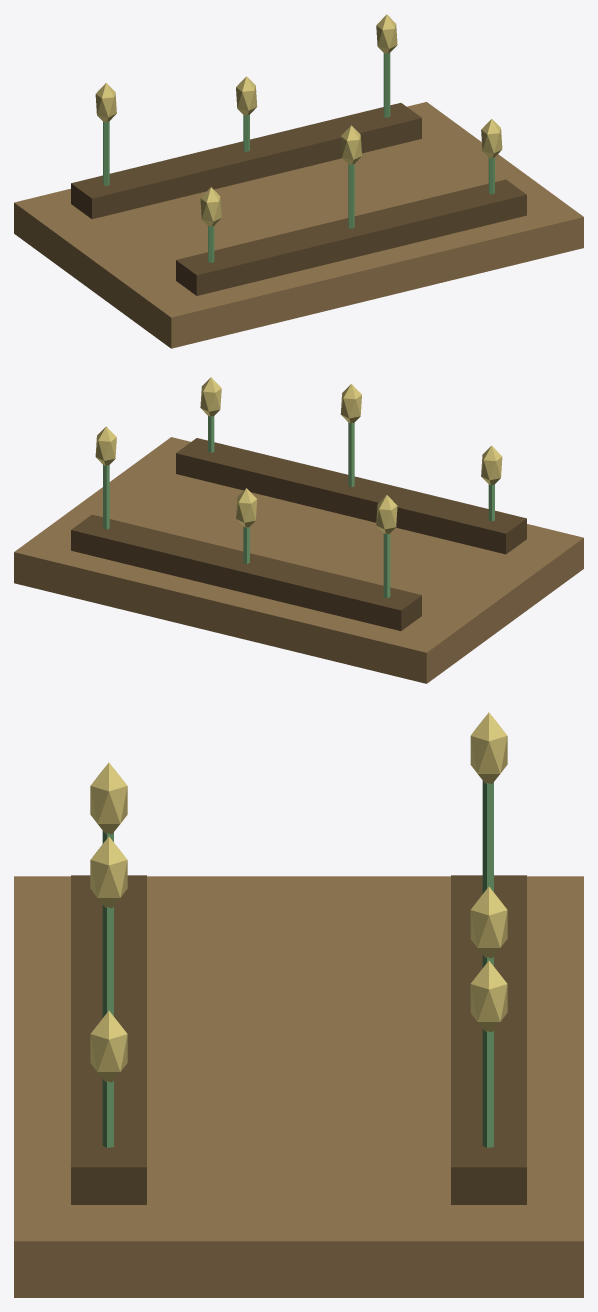
The model's file is harthmere_farm_crops.lod1.glb.
The picture shows the model from 3 angles, top to bottom: view 1: azimuth 30°, elevation 25°; view 2: azimuth 150°, elevation 25°; view 3: azimuth 270°, elevation 25°; orthographic projection. The views are drawn at different scales.
Bounding box in the file's own units: 2.5 × 0.8915 × 1.65.
